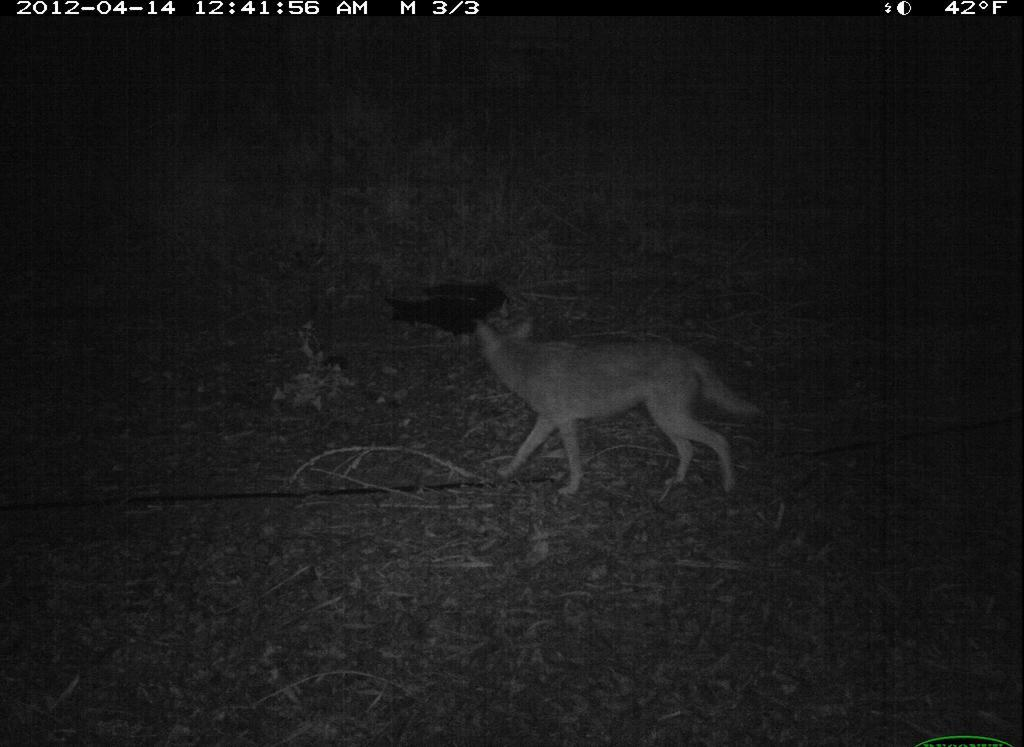coyote: (463, 309, 770, 510)
